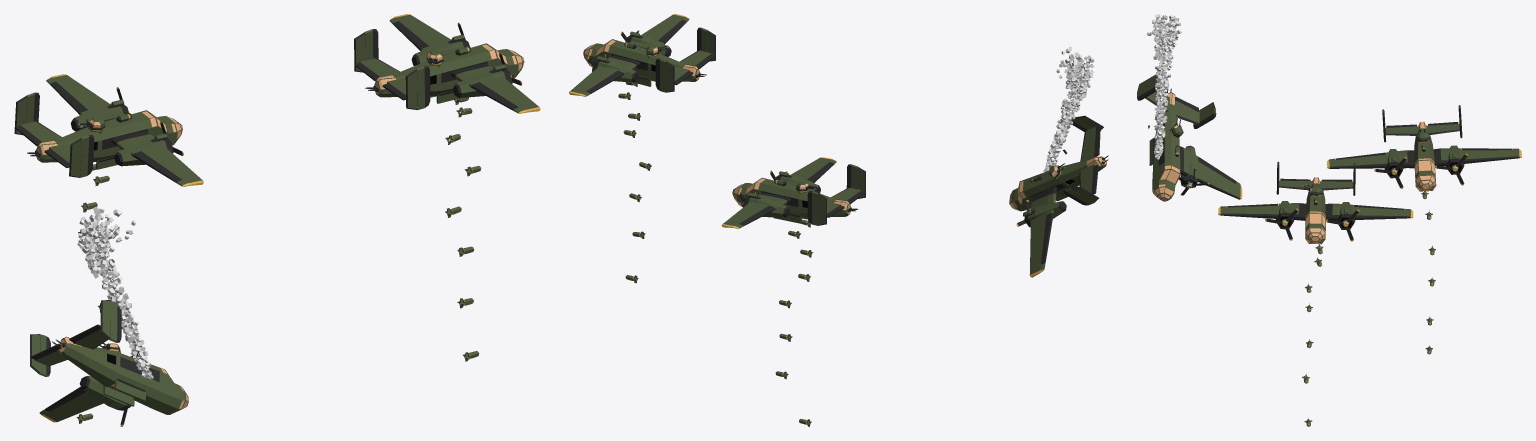
The model's file is b25_bombingrun.fbx.
3 renders of one model, left to right at view 1: azimuth 30°, elevation 25°; view 2: azimuth 150°, elevation 25°; view 3: azimuth 270°, elevation 25°, orthographic. The views are drawn at different scales.
Visible parts, largest first — view 1: Cube.002; view 2: Cube.002; view 3: Cube.002.
Boxes of the visible parts, left/top/right/bottom form: Cube.002: left=14, top=14, right=540, bottom=426; Cube.002: left=569, top=14, right=1108, bottom=426; Cube.002: left=1137, top=14, right=1521, bottom=426.
Bounding box in the file's own units: 2901 × 1861 × 2309.
